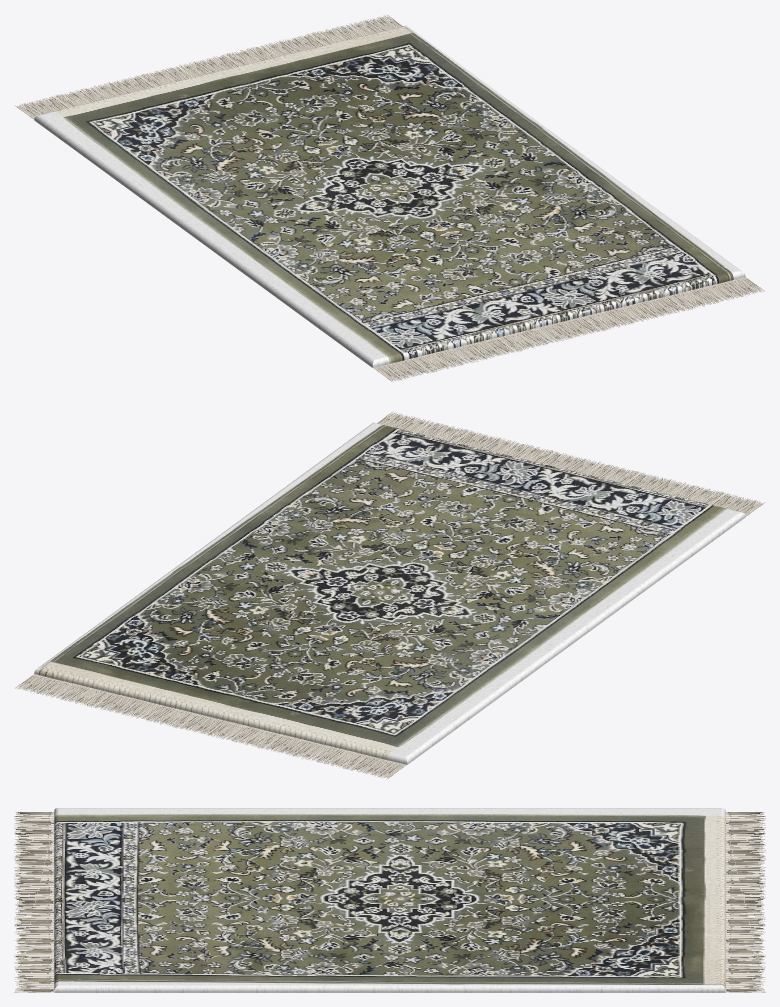
The picture shows the model from 3 angles, top to bottom: view 1: azimuth 30°, elevation 25°; view 2: azimuth 150°, elevation 25°; view 3: azimuth 270°, elevation 25°; orthographic projection.
Visible parts, largest first — view 1: k17; view 2: k17; view 3: k17.
Boxes of the visible parts, x1,y1,x2,y2 form: k17: (14, 14, 764, 382); k17: (15, 411, 765, 779); k17: (14, 808, 765, 992).
Bounding box in the file's own units: 0.7 × 0.0105 × 1.23.
Materials: 3 (2 with a texture image).
